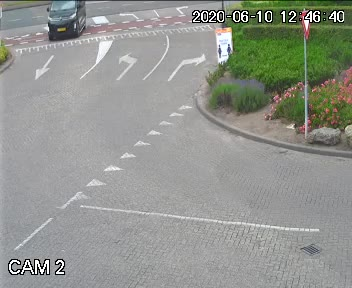car: (44, 0, 93, 50)
